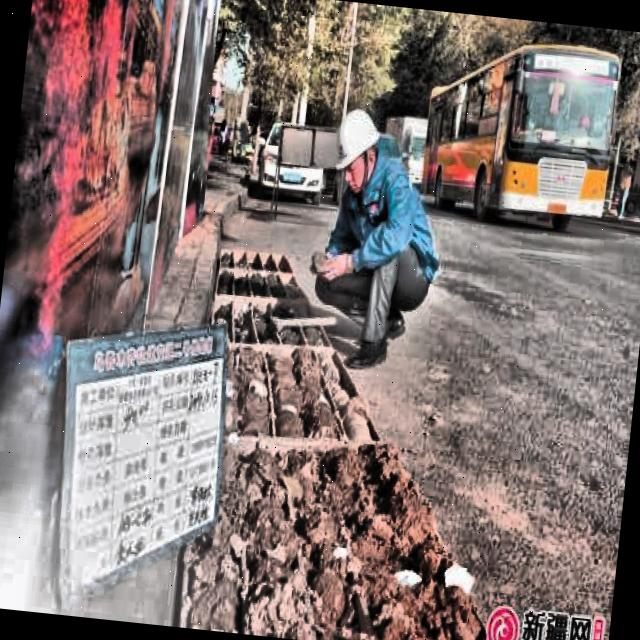helmet: (331, 103, 387, 196)
